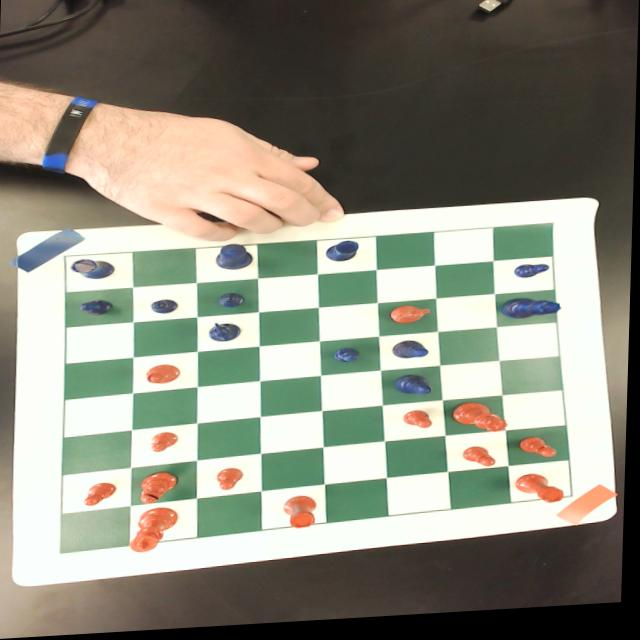B: (395, 379, 434, 403), (393, 345, 431, 365)
K: (215, 246, 254, 274)
N: (210, 324, 243, 346)
P: (515, 269, 552, 285), (81, 301, 115, 318), (152, 300, 180, 317), (218, 295, 246, 311), (335, 351, 361, 368)
Q: (503, 303, 563, 327)
R: (71, 259, 117, 281), (326, 244, 361, 266)
b: (139, 475, 181, 506), (147, 366, 182, 387)
k: (132, 509, 181, 555)
n: (390, 310, 431, 330)
p: (520, 442, 561, 466), (85, 484, 120, 507), (464, 451, 499, 474), (217, 471, 246, 494), (150, 434, 181, 455), (404, 415, 436, 435)
q: (454, 407, 508, 440)
r: (517, 479, 568, 514), (284, 498, 321, 535)
